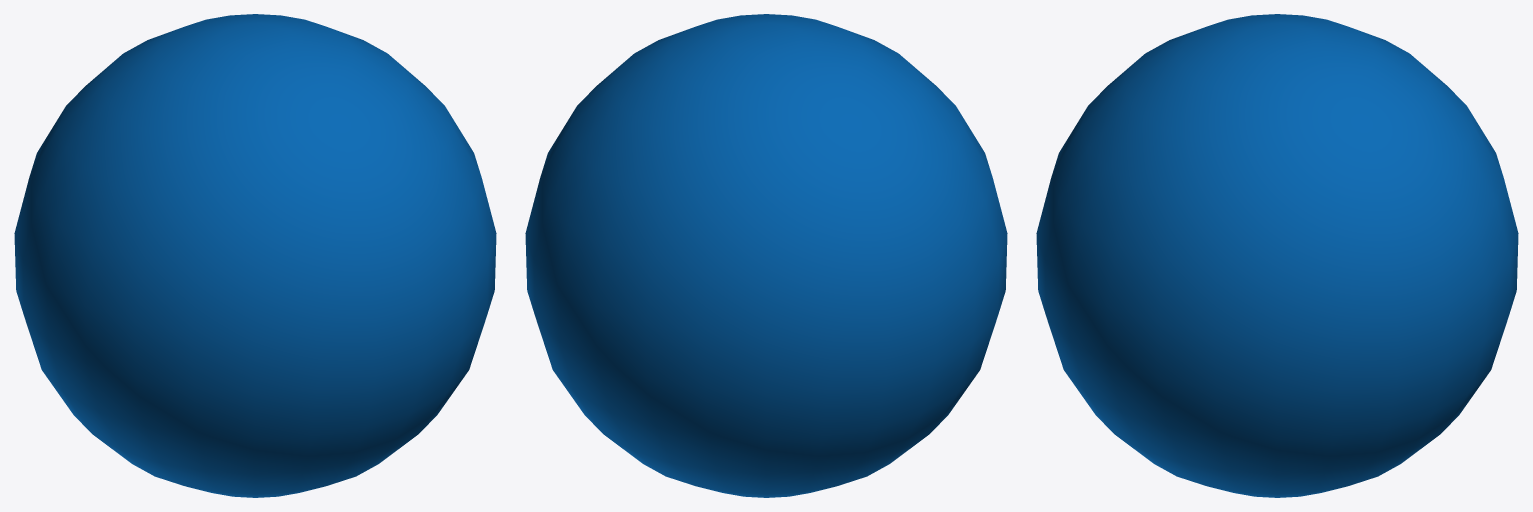
File: BallBlue.obj
3 renders of one model, left to right at view 1: azimuth 30°, elevation 25°; view 2: azimuth 150°, elevation 25°; view 3: azimuth 270°, elevation 25°, orthographic.
Visible parts, largest first — view 1: Mesh1 Ball_blue Model Mesh1 Ball_blue Model_2 Mesh1 Ball_blue Mo; view 2: Mesh1 Ball_blue Model Mesh1 Ball_blue Model_2 Mesh1 Ball_blue Mo; view 3: Mesh1 Ball_blue Model Mesh1 Ball_blue Model_2 Mesh1 Ball_blue Mo.
Part boxes in pixels (x1,y1,x2,y2): Mesh1 Ball_blue Model Mesh1 Ball_blue Model_2 Mesh1 Ball_blue Mo: [14, 14, 496, 497]; Mesh1 Ball_blue Model Mesh1 Ball_blue Model_2 Mesh1 Ball_blue Mo: [525, 14, 1007, 497]; Mesh1 Ball_blue Model Mesh1 Ball_blue Model_2 Mesh1 Ball_blue Mo: [1036, 14, 1518, 497].
Size of the model in its own units: 0.2099 by 0.2096 by 0.2099.
